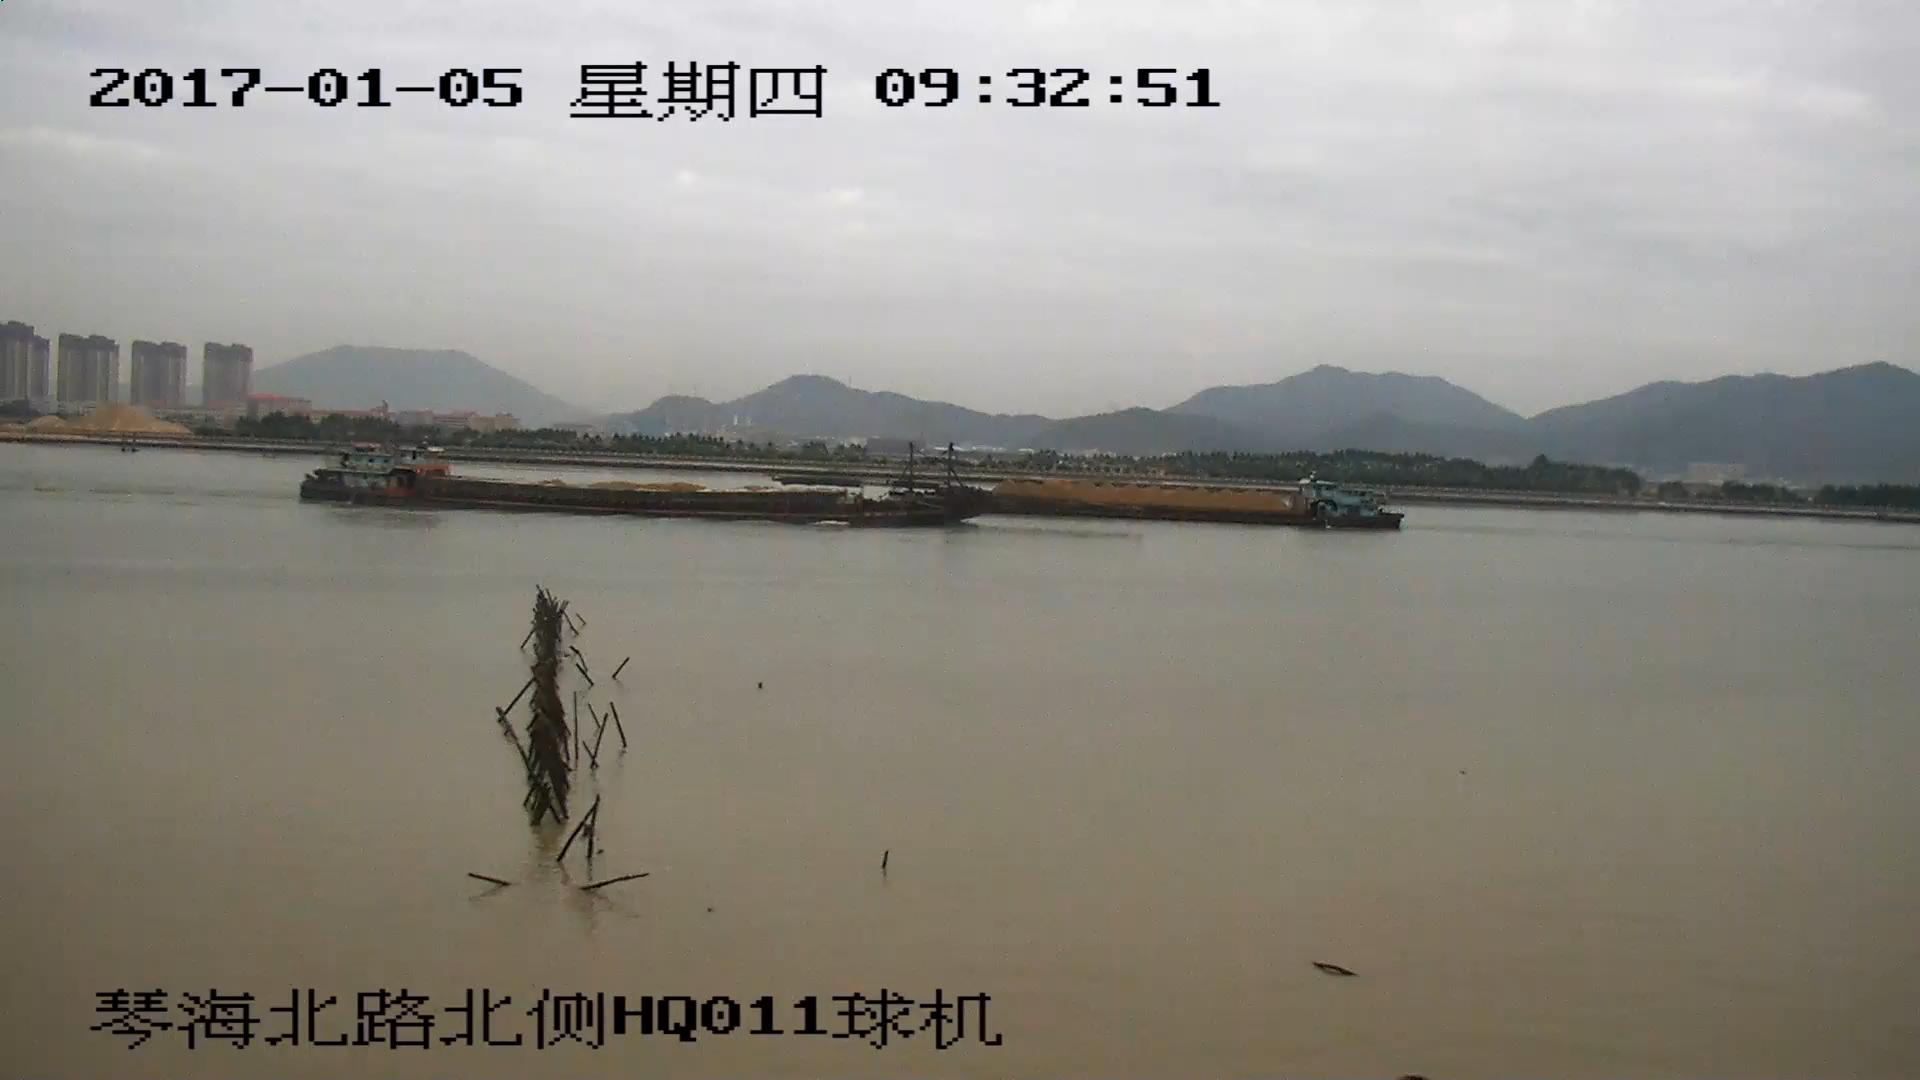ore carrier: (302, 442, 978, 530), (994, 472, 1408, 530)
